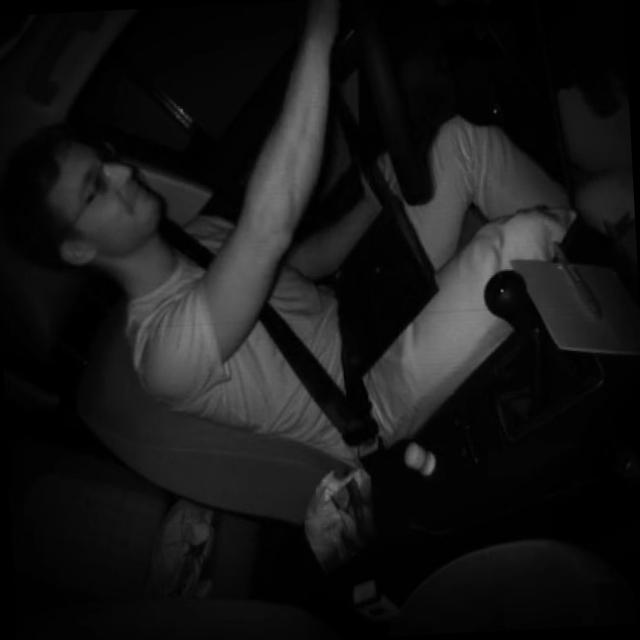pen: (550, 230, 606, 328)
